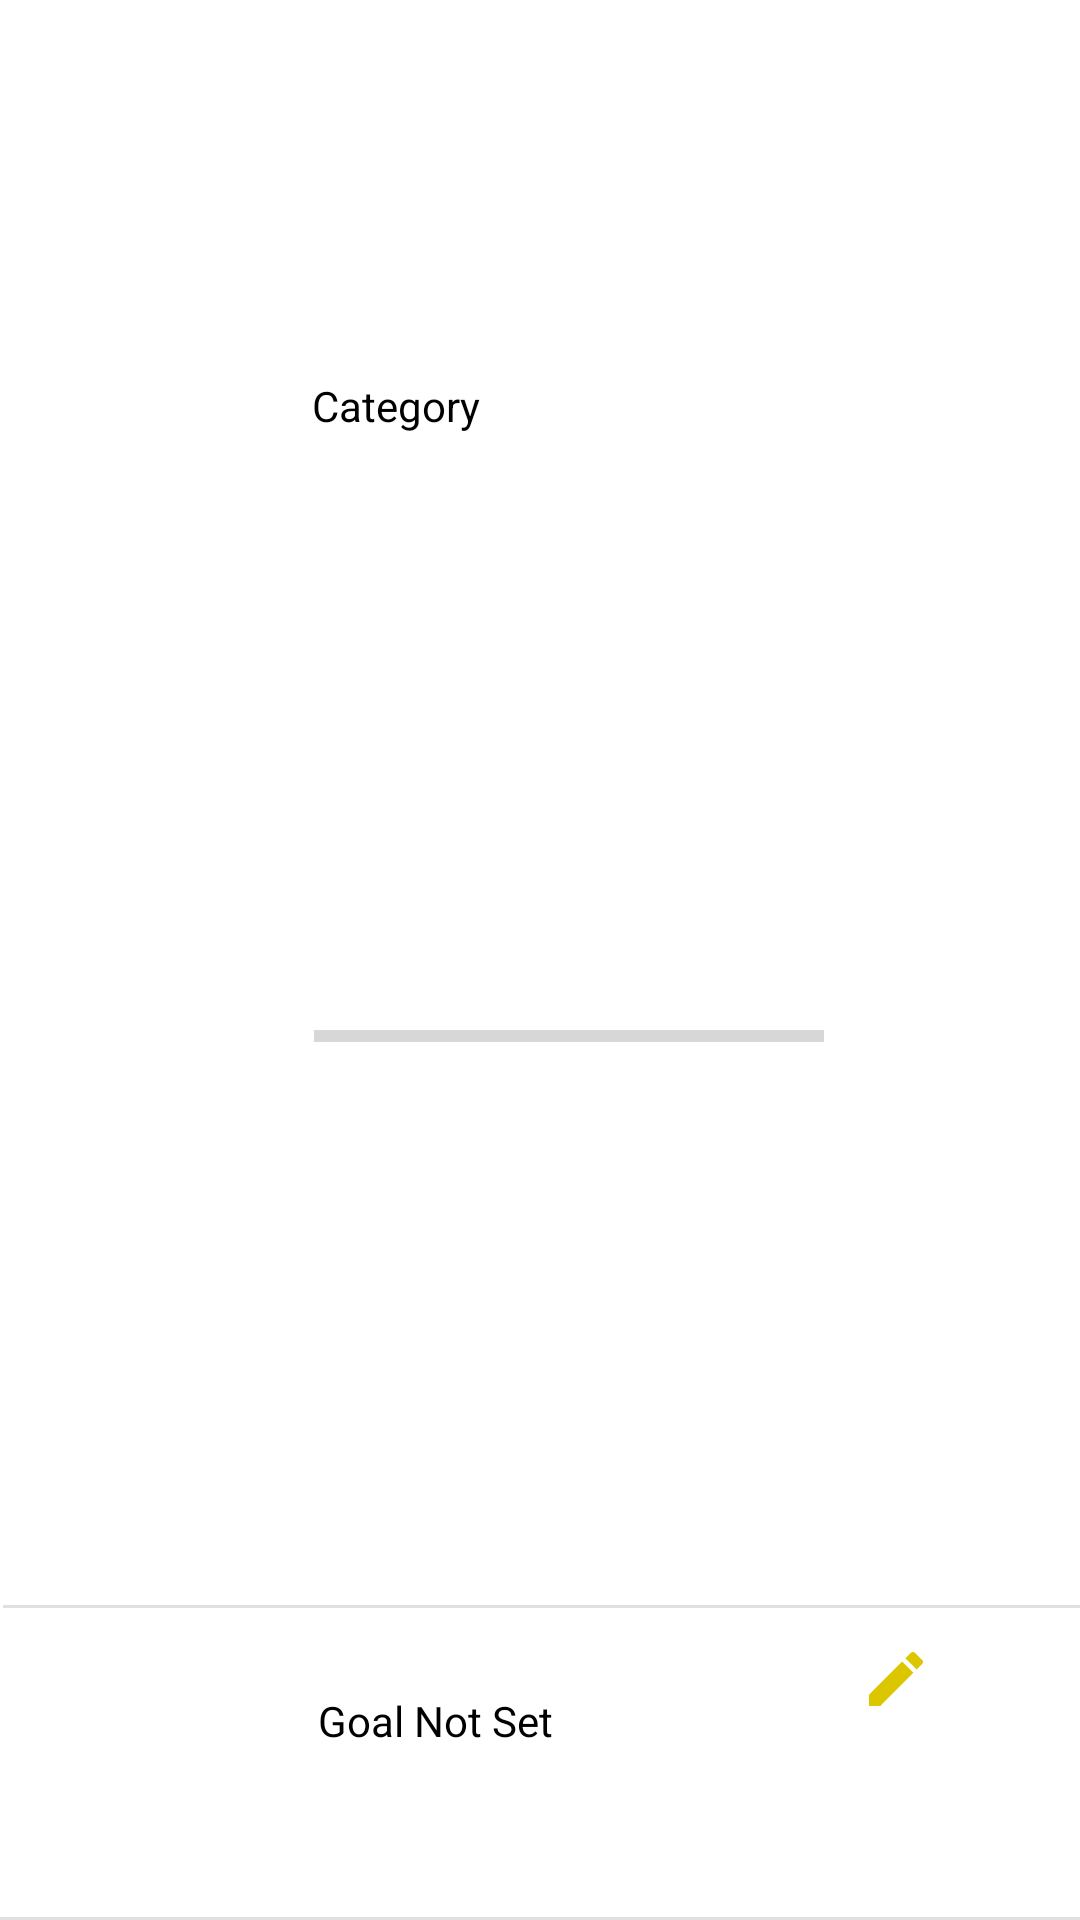

Named icons in this screenshot (1080w x 1920h) and their bounding boxes, (x1, y1, x2, y2):
editicon: (869, 1652, 923, 1706)
